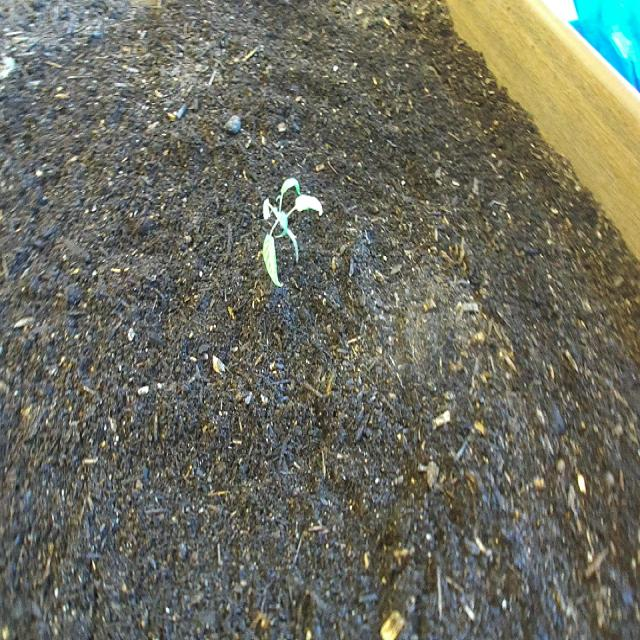Healthy: (259, 170, 326, 290)
